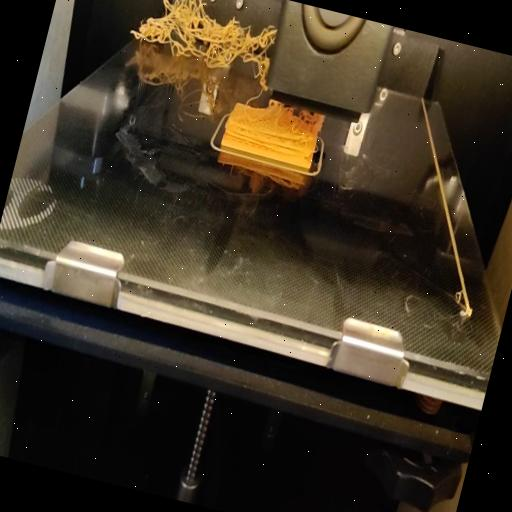spaghetti: (126, 0, 282, 80), (240, 95, 329, 140)
